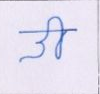i_matra: (49, 15, 68, 59)
